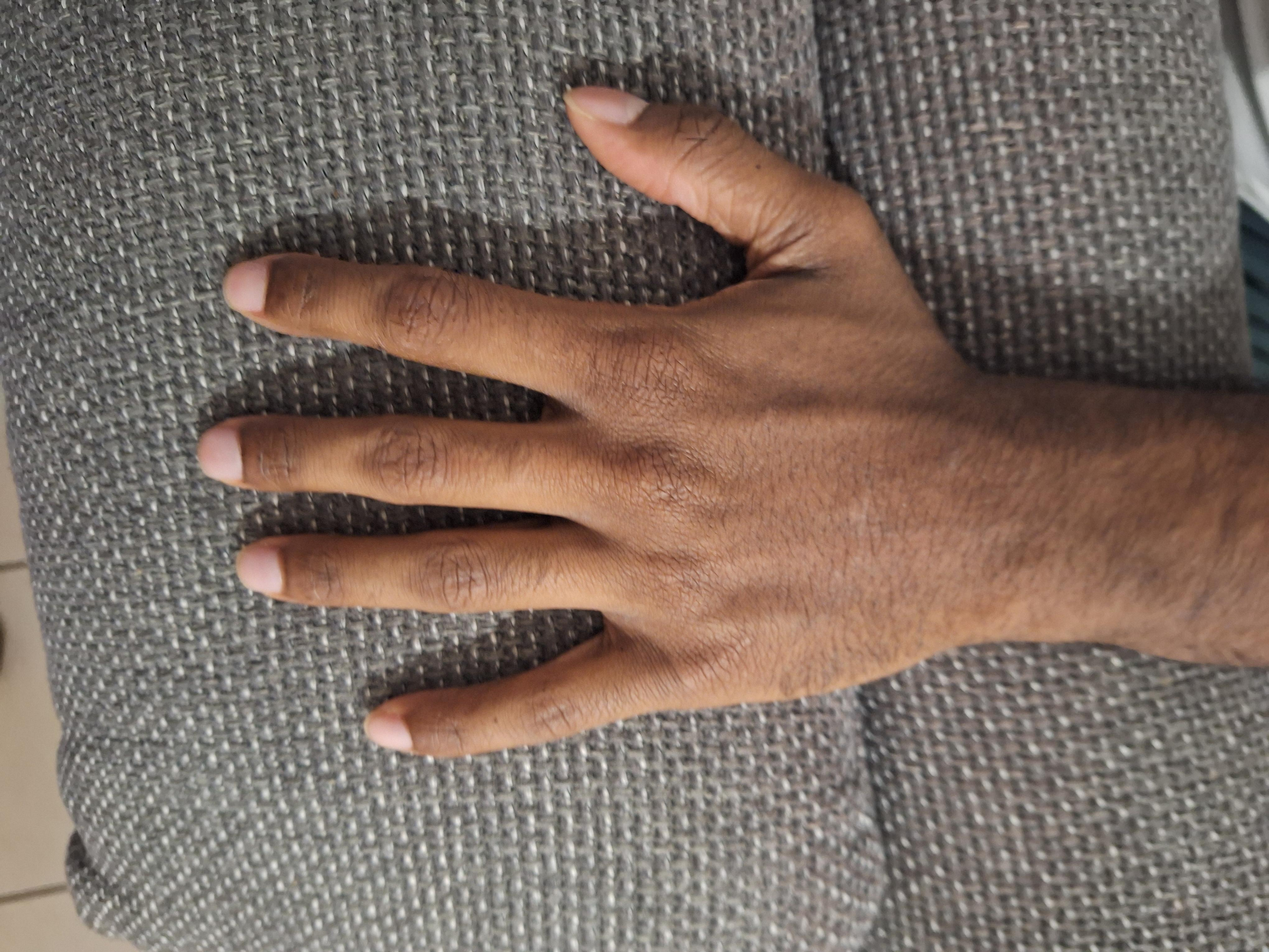Fingernail: (563, 87, 649, 126), (199, 427, 243, 481), (222, 262, 267, 312), (237, 547, 283, 595), (364, 713, 413, 752)
